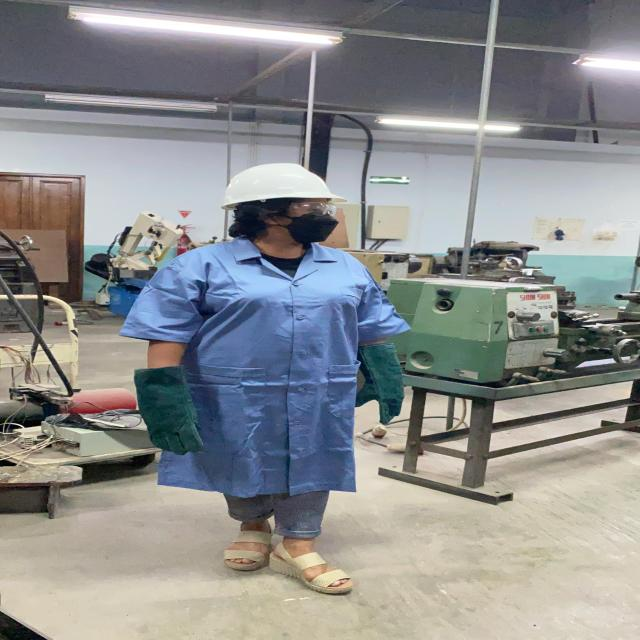face_mask: (276, 197, 348, 244)
glasses: (285, 200, 346, 218)
hand_glove: (128, 394, 218, 456), (332, 364, 421, 424)
head_helmet: (217, 160, 344, 207)
person: (122, 163, 418, 610)
